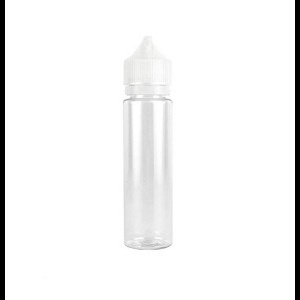emptybottle: (122, 35, 174, 250)
